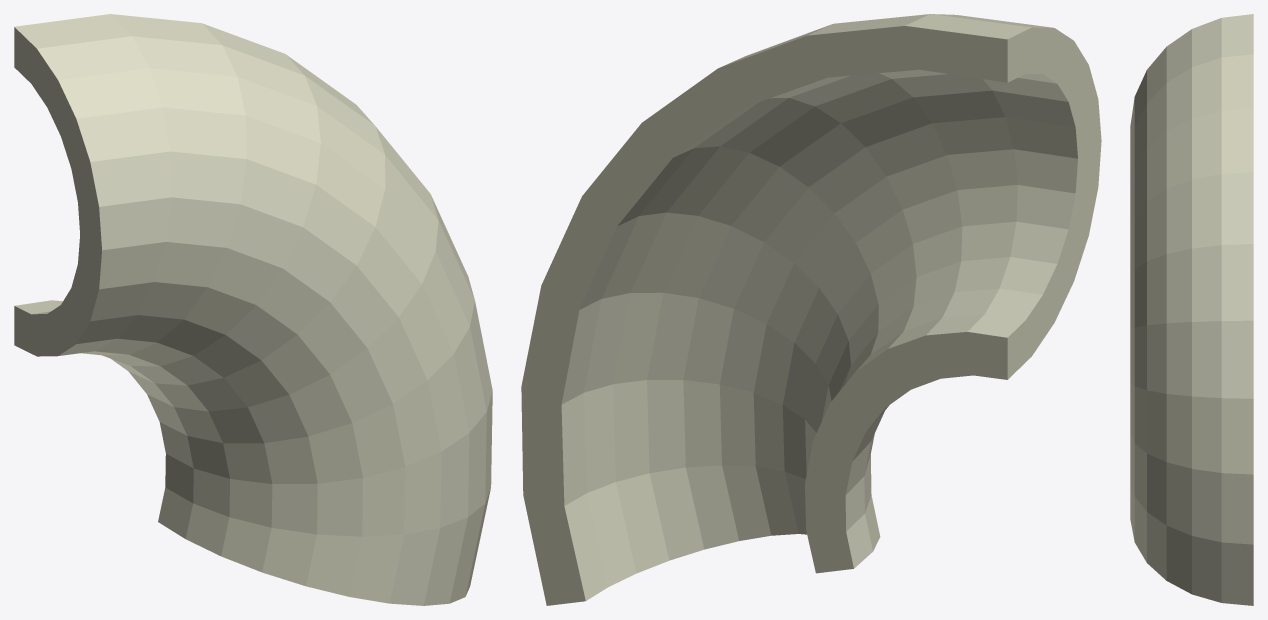
The model's file is section_333.obj.
3 views of the same model, side by side, from view 1: azimuth 30°, elevation 25°; view 2: azimuth 150°, elevation 25°; view 3: azimuth 270°, elevation 25° (orthographic). The views are drawn at different scales.
Size of the model in its own units: 11.95 by 15.95 by 4.
